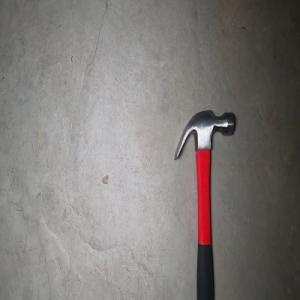Hammer: (173, 109, 236, 300)
